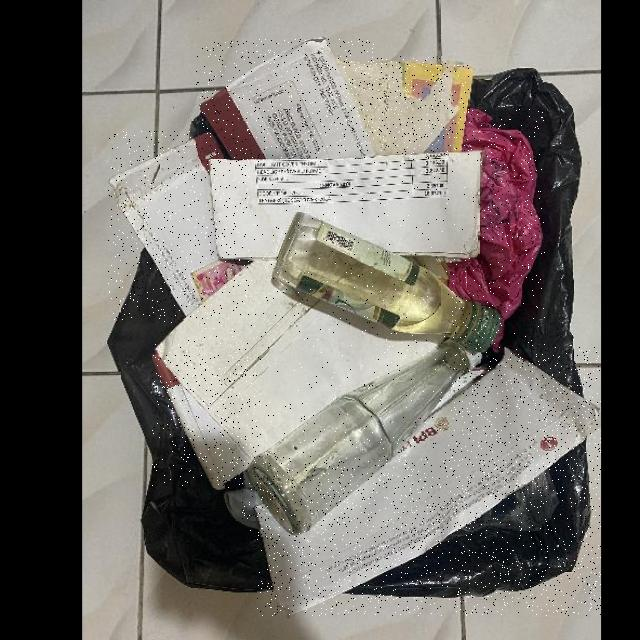glass: (242, 336, 480, 537), (274, 210, 502, 354)
paper: (257, 348, 601, 616), (154, 259, 452, 457), (210, 152, 484, 260), (108, 132, 249, 320), (197, 40, 374, 159), (152, 355, 261, 488), (339, 57, 469, 155)
plastic: (444, 109, 545, 349)
